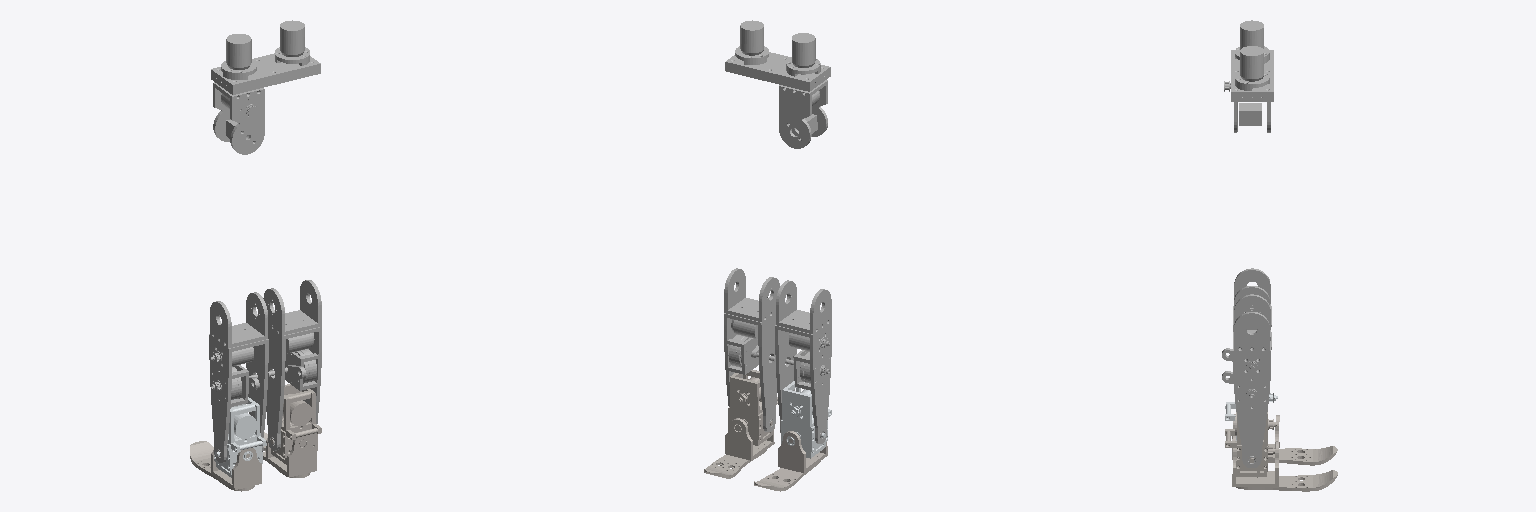
URDF robot description (huron_description):
<?xml version="1.0" encoding="utf-8"?>
<!-- This URDF was automatically created by SolidWorks to URDF Exporter! Originally created by [author] ([email redacted]) 
     Commit Version: 1.6.0-4-g7f85cfe  Build Version: 1.6.7995.38578
     For more information, please see http://wiki.ros.org/sw_urdf_exporter -->
<robot
  name="huron_description">

  <gazebo>
    <self_collide>1</self_collide>
  </gazebo>

  <link name="base_footprint" />
  <link
    name="base_link">
    <inertial>
      <origin
        xyz="4.7319E-09 5.4338E-07 0.026975"
        rpy="0 0 0" />
      <mass
        value="3.4072" />
      <inertia
        ixx="0.00319"
        ixy="7.149E-11"
        ixz="6.0313E-11"
        iyy="0.010531"
        iyz="6.926E-09"
        izz="0.012315" />
    </inertial>
    <visual>
      <origin
        xyz="0 0 0"
        rpy="0 0 0" />
      <geometry>
        <mesh
          filename="resources/meshes/base_link.STL" />
      </geometry>
      <material
        name="">
        <color
          rgba="0.75294 0.75294 0.75294 1" />
      </material>
    </visual>
    <collision>
      <origin
        xyz="0 0 0"
        rpy="0 0 0" />
      <geometry>
        <mesh
          filename="resources/meshes/base_link.STL" />
      </geometry>
    </collision>
  </link>
  <joint name="base_joint" type="fixed">
    <parent link="base_footprint"/>
    <child link="base_link"/>
    <!-- <origin xyz="0.0 0.0 0.0" rpy="0 0 0"/> -->
    <origin xyz="0.0 0.0 1.3" rpy="0 0 0"/>
  </joint>
  <link
    name="l_hip_yaw_link">
    <inertial>
      <origin
        xyz="0.00063365 -0.00053469 0.063496"
        rpy="0 0 0" />
      <mass
        value="1.6968" />
      <inertia
        ixx="0.0022702"
        ixy="-2.5061E-10"
        ixz="6.6464E-06"
        iyy="0.0026746"
        iyz="-5.1468E-09"
        izz="0.001238" />
    </inertial>
    <visual>
      <origin
        xyz="0 0 0"
        rpy="0 0 0" />
      <geometry>
        <mesh
          filename="resources/meshes/l_hip_yaw_link.STL" />
      </geometry>
      <material
        name="">
        <color
          rgba="0.75294 0.75294 0.75294 1" />
      </material>
    </visual>
    <collision>
      <origin
        xyz="0 0 0"
        rpy="0 0 0" />
      <geometry>
        <mesh
          filename="resources/meshes/l_hip_yaw_link.STL" />
      </geometry>
    </collision>
  </link>
  <joint
    name="l_hip_yaw_joint"
    type="revolute">
    <origin
      xyz="-0.0775 0 -0.14512"
      rpy="0 0 -0.0062919" />
    <parent
      link="base_link" />
    <child
      link="l_hip_yaw_link" />
    <axis
      xyz="0 0 1" />
    <limit
      lower="-3.1416"
      upper="3.1416"
      effort="0"
      velocity="0" />
    <dynamics
      damping="0.5"
      friction="100" />
  </joint>
  <link
    name="l_hip_roll_link">
    <inertial>
      <origin
        xyz="0.07196 0.0061153 -0.0005211"
        rpy="0 0 0" />
      <mass
        value="1.1884" />
      <inertia
        ixx="0.00098222"
        ixy="-9.9265E-08"
        ixz="4.9766E-09"
        iyy="0.00097045"
        iyz="-9.7282E-08"
        izz="0.00092365" />
    </inertial>
    <visual>
      <origin
        xyz="0 0 0"
        rpy="0 0 0" />
      <geometry>
        <mesh
          filename="resources/meshes/l_hip_roll_link.STL" />
      </geometry>
      <material
        name="">
        <color
          rgba="0.75294 0.75294 0.75294 1" />
      </material>
    </visual>
    <collision>
      <origin
        xyz="0 0 0"
        rpy="0 0 0" />
      <geometry>
        <mesh
          filename="resources/meshes/l_hip_roll_link.STL" />
      </geometry>
    </collision>
  </link>
  <joint
    name="l_hip_roll_joint"
    type="revolute">
    <origin
      xyz="0 0 0"
      rpy="1.5708 0 3.1416" />
    <parent
      link="l_hip_yaw_link" />
    <child
      link="l_hip_roll_link" />
    <axis
      xyz="0 0 1" />
    <limit
      lower="-3.1416"
      upper="3.1416"
      effort="0"
      velocity="0" />
    <dynamics
      damping="0.5"
      friction="100" />
  </joint>
  <link
    name="l_hip_pitch_link">
    <inertial>
      <origin
        xyz="0.26603 4.6212E-05 0.053152"
        rpy="0 0 0" />
      <mass
        value="4.2544" />
      <inertia
        ixx="0.0034527"
        ixy="-3.1046E-08"
        ixz="0.0019797"
        iyy="0.010032"
        iyz="-1.4492E-10"
        izz="0.01009" />
    </inertial>
    <visual>
      <origin
        xyz="0 0 0"
        rpy="0 0 0" />
      <geometry>
        <mesh
          filename="resources/meshes/l_hip_pitch_link.STL" />
      </geometry>
      <material
        name="">
        <color
          rgba="0.75294 0.75294 0.75294 1" />
      </material>
    </visual>
    <collision>
      <origin
        xyz="0 0 0"
        rpy="0 0 0" />
      <geometry>
        <mesh
          filename="resources/meshes/l_hip_pitch_link.STL" />
      </geometry>
    </collision>
  </link>
  <joint
    name="l_hip_pitch_joint"
    type="revolute">
    <origin
      xyz="0 0 0"
      rpy="-1.5707963267949 0 -1.5707963267949" />
    <parent
      link="l_hip_roll_link" />
    <child
      link="l_hip_pitch_link" />
    <axis
      xyz="0 0 1" />
    <limit
      lower="-3.1416"
      upper="3.1416"
      effort="0"
      velocity="0" />
    <dynamics
      damping="0.5"
      friction="100" />
  </joint>
  <link
    name="l_knee_pitch_link">
    <inertial>
      <origin
        xyz="0.13395 0.00068098 0.00486"
        rpy="0 0 0" />
      <mass
        value="3.4875" />
      <inertia
        ixx="0.0064808"
        ixy="1.3685E-05"
        ixz="-2.8221E-05"
        iyy="0.019763"
        iyz="1.0351E-05"
        izz="0.017354" />
    </inertial>
    <visual>
      <origin
        xyz="0 0 0"
        rpy="0 0 0" />
      <geometry>
        <mesh
          filename="resources/meshes/l_knee_pitch_link.STL" />
      </geometry>
      <material
        name="">
        <color
          rgba="0.75294 0.75294 0.75294 1" />
      </material>
    </visual>
    <collision>
      <origin
        xyz="0 0 0"
        rpy="0 0 0" />
      <geometry>
        <mesh
          filename="resources/meshes/l_knee_pitch_link.STL" />
      </geometry>
    </collision>
  </link>
  <joint
    name="l_knee_pitch_joint"
    type="revolute">
    <origin
      xyz="0.511278478308803 4.99999997527478E-05 1.66647320021251E-05"
      rpy="0 0 0" />
    <parent
      link="l_hip_pitch_link" />
    <child
      link="l_knee_pitch_link" />
    <axis
      xyz="0 0 1" />
    <limit
      lower="-3.1416"
      upper="3.1416"
      effort="0"
      velocity="0" />
    <dynamics
      damping="0.5"
      friction="100" />
  </joint>
  <link
    name="l_ankle_pitch_link">
    <inertial>
      <origin
        xyz="-0.029808 0.001045 3.1135E-08"
        rpy="0 0 0" />
      <mass
        value="2.4242" />
      <inertia
        ixx="0.0025143"
        ixy="-0.00025651"
        ixz="1.1648E-12"
        iyy="0.0045125"
        iyz="6.7198E-10"
        izz="0.0049235" />
    </inertial>
    <visual>
      <origin
        xyz="0 0 0"
        rpy="0 0 0" />
      <geometry>
        <mesh
          filename="resources/meshes/l_ankle_pitch_link.STL" />
      </geometry>
      <material
        name="">
        <color
          rgba="0.89804 0.91765 0.92941 1" />
      </material>
    </visual>
    <collision>
      <origin
        xyz="0 0 0"
        rpy="0 0 0" />
      <geometry>
        <mesh
          filename="resources/meshes/l_ankle_pitch_link.STL" />
      </geometry>
    </collision>
  </link>
  <joint
    name="l_ankle_pitch_joint"
    type="revolute">
    <origin
      xyz="0.370000000000016 3.16358752296964E-05 0.00249999999999911"
      rpy="0 0 0.0249371730038869" />
    <parent
      link="l_knee_pitch_link" />
    <child
      link="l_ankle_pitch_link" />
    <axis
      xyz="0 0 1" />
    <limit
      lower="-3.1416"
      upper="3.1416"
      effort="0"
      velocity="0" />
    <dynamics
      damping="0.5"
      friction="100" />
  </joint>
  <link
    name="l_ankle_roll_link">
    <inertial>
      <origin
        xyz="0.073422 -5.3261E-05 0.063946"
        rpy="0 0 0" />
      <mass
        value="1.8533" />
      <inertia
        ixx="0.008682"
        ixy="-1.0255E-05"
        ixz="0.00024351"
        iyy="0.0084057"
        iyz="0.00012332"
        izz="0.0013019" />
    </inertial>
    <visual>
      <origin
        xyz="0 0 0"
        rpy="0 0 0" />
      <geometry>
        <mesh
          filename="resources/meshes/l_ankle_roll_link.STL" />
      </geometry>
      <material
        name="">
        <color
          rgba="0.77647 0.75686 0.73725 1" />
      </material>
    </visual>
    <collision>
      <origin
        xyz="0 0 0"
        rpy="0 0 0" />
      <geometry>
        <mesh
          filename="resources/meshes/l_ankle_roll_link.STL" />
      </geometry>
    </collision>
  </link>
  <joint
    name="l_ankle_roll_joint"
    type="revolute">
    <origin
      xyz="0 0 0"
      rpy="1.57079632679489 0 0" />
    <parent
      link="l_ankle_pitch_link" />
    <child
      link="l_ankle_roll_link" />
    <axis
      xyz="0 0 1" />
    <limit
      lower="-3.1416"
      upper="3.1416"
      effort="0"
      velocity="0" />
    <dynamics
      damping="0.5"
      friction="100" />
  </joint>
  <link
    name="r_hip_yaw_link">
    <inertial>
      <origin
        xyz="0.0006244 0.00052023 0.063505"
        rpy="0 0 0" />
      <mass
        value="1.6968" />
      <inertia
        ixx="0.0022729"
        ixy="-5.6517E-10"
        ixz="6.6464E-06"
        iyy="0.0026746"
        iyz="5.6889E-09"
        izz="0.0012354" />
    </inertial>
    <visual>
      <origin
        xyz="0 0 0"
        rpy="0 0 0" />
      <geometry>
        <mesh
          filename="resources/meshes/r_hip_yaw_link.STL" />
      </geometry>
      <material
        name="">
        <color
          rgba="0.75294 0.75294 0.75294 1" />
      </material>
    </visual>
    <collision>
      <origin
        xyz="0 0 0"
        rpy="0 0 0" />
      <geometry>
        <mesh
          filename="resources/meshes/r_hip_yaw_link.STL" />
      </geometry>
    </collision>
  </link>
  <joint
    name="r_hip_yaw_joint"
    type="revolute">
    <origin
      xyz="0.0774999999999944 0 -0.1451242"
      rpy="0 0 3.13046853298182" />
    <parent
      link="base_link" />
    <child
      link="r_hip_yaw_link" />
    <axis
      xyz="0 0 1" />
    <limit
      lower="-3.1416"
      upper="3.1416"
      effort="0"
      velocity="0" />
    <dynamics
      damping="0.5"
      friction="100" />
  </joint>
  <link
    name="r_hip_roll_link">
    <inertial>
      <origin
        xyz="-0.07196 0.0061152 -0.00052563"
        rpy="0 0 0" />
      <mass
        value="1.1884" />
      <inertia
        ixx="0.00098222"
        ixy="9.8947E-08"
        ixz="9.2484E-09"
        iyy="0.00097045"
        iyz="9.7414E-08"
        izz="0.00092365" />
    </inertial>
    <visual>
      <origin
        xyz="0 0 0"
        rpy="0 0 0" />
      <geometry>
        <mesh
          filename="resources/meshes/r_hip_roll_link.STL" />
      </geometry>
      <material
        name="">
        <color
          rgba="0.75294 0.75294 0.75294 1" />
      </material>
    </visual>
    <collision>
      <origin
        xyz="0 0 0"
        rpy="0 0 0" />
      <geometry>
        <mesh
          filename="resources/meshes/r_hip_roll_link.STL" />
      </geometry>
    </collision>
  </link>
  <joint
    name="r_hip_roll_joint"
    type="revolute">
    <origin
      xyz="0 0 0"
      rpy="1.5708 0 0" />
    <parent
      link="r_hip_yaw_link" />
    <child
      link="r_hip_roll_link" />
    <axis
      xyz="0 0 1" />
    <limit
      lower="-3.1416"
      upper="3.1416"
      effort="0"
      velocity="0" />
    <dynamics
      damping="0.5"
      friction="100" />
  </joint>
  <link
    name="r_hip_pitch_link">
    <inertial>
      <origin
        xyz="0.26753 4.9957E-05 -0.053132"
        rpy="0 0 0" />
      <mass
        value="4.2544" />
      <inertia
        ixx="0.0034501"
        ixy="-2.7561E-09"
        ixz="-0.0019797"
        iyy="0.010035"
        iyz="2.5263E-10"
        izz="0.01009" />
    </inertial>
    <visual>
      <origin
        xyz="0 0 0"
        rpy="0 0 0" />
      <geometry>
        <mesh
          filename="resources/meshes/r_hip_pitch_link.STL" />
      </geometry>
      <material
        name="">
        <color
          rgba="0.75294 0.75294 0.75294 1" />
      </material>
    </visual>
    <collision>
      <origin
        xyz="0 0 0"
        rpy="0 0 0" />
      <geometry>
        <mesh
          filename="resources/meshes/r_hip_pitch_link.STL" />
      </geometry>
    </collision>
  </link>
  <joint
    name="r_hip_pitch_joint"
    type="revolute">
    <origin
      xyz="0 0 0"
      rpy="-1.5708 0 -1.5708" />
    <parent
      link="r_hip_roll_link" />
    <child
      link="r_hip_pitch_link" />
    <axis
      xyz="0 0 1" />
    <limit
      lower="-3.1416"
      upper="3.1416"
      effort="0"
      velocity="0" />
    <dynamics
      damping="0.5"
      friction="100" />
  </joint>
  <link
    name="r_knee_pitch_link">
    <inertial>
      <origin
        xyz="0.13396 0.00063335 -0.00486"
        rpy="0 0 0" />
      <mass
        value="3.4875" />
      <inertia
        ixx="0.0064812"
        ixy="1.2949E-05"
        ixz="2.8064E-05"
        iyy="0.019762"
        iyz="-1.0389E-05"
        izz="0.017354" />
    </inertial>
    <visual>
      <origin
        xyz="0 0 0"
        rpy="0 0 0" />
      <geometry>
        <mesh
          filename="resources/meshes/r_knee_pitch_link.STL" />
      </geometry>
      <material
        name="">
        <color
          rgba="0.75294 0.75294 0.75294 1" />
      </material>
    </visual>
    <collision>
      <origin
        xyz="0 0 0"
        rpy="0 0 0" />
      <geometry>
        <mesh
          filename="resources/meshes/r_knee_pitch_link.STL" />
      </geometry>
    </collision>
  </link>
  <joint
    name="r_knee_pitch_joint"
    type="revolute">
    <origin
      xyz="0.512778478308813 4.99999999867273E-05 -1.66647320091612E-05"
      rpy="0 0 0" />
    <parent
      link="r_hip_pitch_link" />
    <child
      link="r_knee_pitch_link" />
    <axis
      xyz="0 0 1" />
    <limit
      lower="-3.1416"
      upper="3.1416"
      effort="0"
      velocity="0" />
    <dynamics
      damping="0.5"
      friction="100" />
  </joint>
  <link
    name="r_ankle_pitch_link">
    <inertial>
      <origin
        xyz="-0.029867 0.001045 0.000556"
        rpy="0 0 0" />
      <mass
        value="2.4242" />
      <inertia
        ixx="0.0025143"
        ixy="-0.00025651"
        ixz="1.5321E-12"
        iyy="0.0045125"
        iyz="9.9589E-10"
        izz="0.0049235" />
    </inertial>
    <visual>
      <origin
        xyz="0 0 0"
        rpy="0 0 0" />
      <geometry>
        <mesh
          filename="resources/meshes/r_ankle_pitch_link.STL" />
      </geometry>
      <material
        name="">
        <color
          rgba="0.77647 0.75686 0.73725 1" />
      </material>
    </visual>
    <collision>
      <origin
        xyz="0 0 0"
        rpy="0 0 0" />
      <geometry>
        <mesh
          filename="resources/meshes/r_ankle_pitch_link.STL" />
      </geometry>
    </collision>
  </link>
  <joint
    name="r_ankle_pitch_joint"
    type="revolute">
    <origin
      xyz="0.370000000000006 -3.16358749707368E-05 -0.00249999999999918"
      rpy="0 0 0.0095311367408488" />
    <parent
      link="r_knee_pitch_link" />
    <child
      link="r_ankle_pitch_link" />
    <axis
      xyz="0 0 1" />
    <limit
      lower="-3.1416"
      upper="3.1416"
      effort="0"
      velocity="0" />
    <dynamics
      damping="0.5"
      friction="100" />
  </joint>
  <link
    name="r_ankle_roll_link">
    <inertial>
      <origin
        xyz="0.073422 7.2094E-05 0.063933"
        rpy="0 0 0" />
      <mass
        value="1.8531" />
      <inertia
        ixx="0.0086813"
        ixy="1.0356E-05"
        ixz="0.00024346"
        iyy="0.0084051"
        iyz="-0.00012301"
        izz="0.0013018" />
    </inertial>
    <visual>
      <origin
        xyz="0 0 0"
        rpy="0 0 0" />
      <geometry>
        <mesh
          filename="resources/meshes/r_ankle_roll_link.STL" />
      </geometry>
      <material
        name="">
        <color
          rgba="0.77647 0.75686 0.73725 1" />
      </material>
    </visual>
    <collision>
      <origin
        xyz="0 0 0"
        rpy="0 0 0" />
      <geometry>
        <mesh
          filename="resources/meshes/r_ankle_roll_link.STL" />
      </geometry>
    </collision>
  </link>
  <joint
    name="r_ankle_roll_joint"
    type="revolute">
    <origin
      xyz="0 0 0"
      rpy="1.57079632679489 0 0" />
    <parent
      link="r_ankle_pitch_link" />
    <child
      link="r_ankle_roll_link" />
    <axis
      xyz="0 0 1" />
    <limit
      lower="-3.1416"
      upper="3.1416"
      effort="0"
      velocity="0" />
    <dynamics
      damping="0.5"
      friction="100" />
  </joint>
</robot>

--- Facts derived from the render (not from the file) ---
3 views of the same robot in one strip: view 1: azimuth 30°, elevation 25°; view 2: azimuth 150°, elevation 25°; view 3: azimuth 270°, elevation 25° (orthographic).
Model huron_description with 14 links and 13 joints (12 revolute, 1 fixed), rooted at base_footprint, posed every joint at zero.
Visible links, largest first — view 1: l_knee_pitch_link, r_knee_pitch_link, base_link, l_hip_yaw_link, r_ankle_pitch_link, l_ankle_pitch_link, l_ankle_roll_link, r_ankle_roll_link; view 2: l_knee_pitch_link, r_knee_pitch_link, base_link, l_hip_yaw_link, r_ankle_pitch_link, l_ankle_pitch_link, l_ankle_roll_link, r_ankle_roll_link; view 3: r_knee_pitch_link, base_link, r_ankle_roll_link, l_knee_pitch_link, l_ankle_roll_link, r_ankle_pitch_link, l_hip_yaw_link.
Boxes of the visible links, bbox=[...] form: l_knee_pitch_link: bbox=[209, 292, 268, 462]; r_knee_pitch_link: bbox=[263, 280, 321, 450]; base_link: bbox=[211, 20, 320, 94]; l_hip_yaw_link: bbox=[213, 82, 264, 154]; r_ankle_pitch_link: bbox=[269, 384, 321, 464]; l_ankle_pitch_link: bbox=[214, 397, 266, 477]; l_ankle_roll_link: bbox=[190, 441, 261, 491]; r_ankle_roll_link: bbox=[263, 432, 316, 477]; l_knee_pitch_link: bbox=[775, 280, 831, 443]; r_knee_pitch_link: bbox=[724, 268, 779, 431]; base_link: bbox=[725, 20, 830, 91]; l_hip_yaw_link: bbox=[779, 80, 827, 148]; r_ankle_pitch_link: bbox=[728, 370, 777, 445]; l_ankle_pitch_link: bbox=[781, 381, 831, 458]; l_ankle_roll_link: bbox=[754, 431, 827, 491]; r_ankle_roll_link: bbox=[704, 418, 774, 478]; r_knee_pitch_link: bbox=[1222, 294, 1271, 467]; base_link: bbox=[1231, 20, 1273, 101]; r_ankle_roll_link: bbox=[1232, 441, 1337, 491]; l_knee_pitch_link: bbox=[1222, 268, 1271, 361]; l_ankle_roll_link: bbox=[1232, 414, 1337, 465]; r_ankle_pitch_link: bbox=[1225, 412, 1276, 476]; l_hip_yaw_link: bbox=[1224, 81, 1270, 132].
Size in the robot's own frame: 0.3181 by 0.2995 by 1.23 metres.
8 mesh visuals loaded from 13 distinct referenced files (8 binary STL); not drawn: 5 (reference not matched to a file when rendering).
